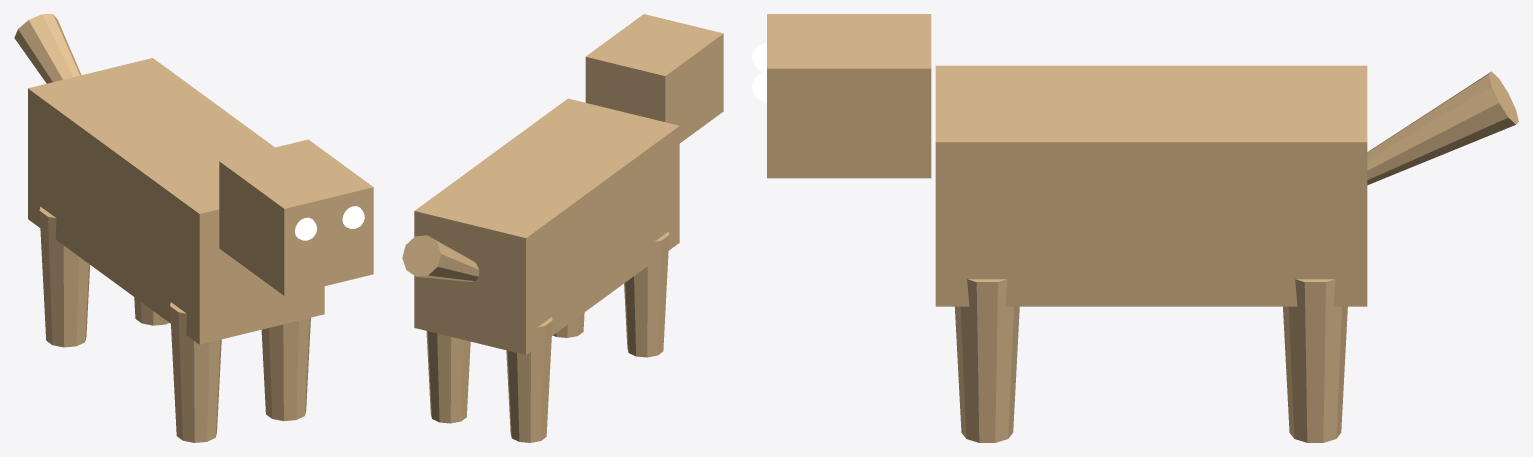
3 renders of one model, left to right at view 1: azimuth 30°, elevation 25°; view 2: azimuth 150°, elevation 25°; view 3: azimuth 270°, elevation 25°, orthographic. The views are drawn at different scales.
Visible parts, largest first — view 1: trunk, head, legFRm, legBRm, legFLm, tail, legBLm, eye, eye.001; view 2: trunk, head, legBRm, legFRm, legBLm, tail, legFLm; view 3: trunk, head, legBLm, legFLm, tail.
Boxes of the visible parts, x1,y1,x2,y2 form: trunk: (28,58,324,344); head: (219,139,373,295); legFRm: (170,302,221,442); legBRm: (39,206,89,347); legFLm: (261,317,310,421); tail: (14,14,81,83); legBLm: (134,297,169,325); eye: (295,217,317,240); eye.001: (342,206,364,228); trunk: (414,98,679,354); head: (585,14,723,143); legBRm: (506,317,552,442); legFRm: (624,231,669,357); legBLm: (426,331,470,423); tail: (402,235,479,281); legFLm: (553,312,584,337); trunk: (935,65,1367,306); head: (767,14,931,178); legBLm: (1283,279,1347,442); legFLm: (955,279,1019,442); tail: (1367,71,1518,185).
Bounding box in the file's own units: 0.407 × 0.837 × 1.6.
